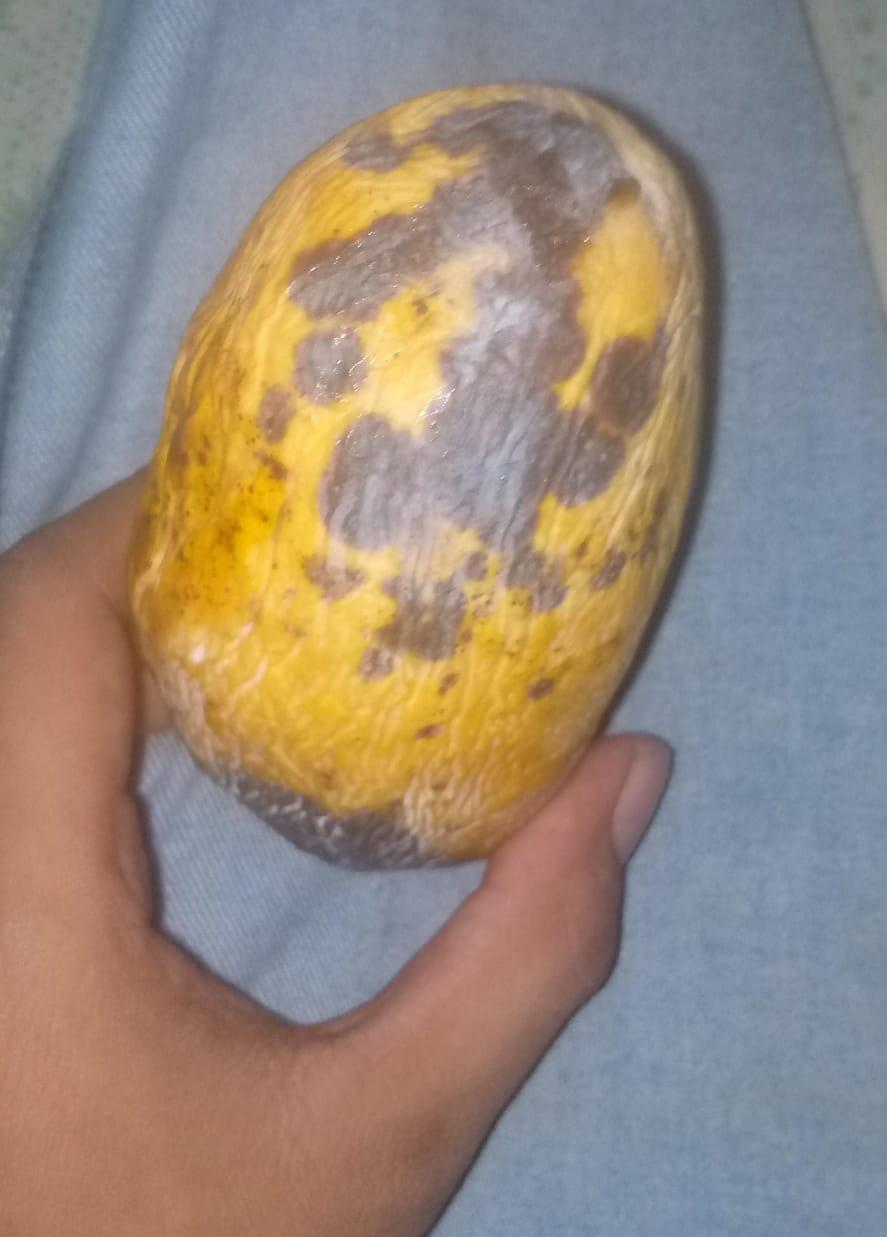mango: (126, 80, 710, 871)
